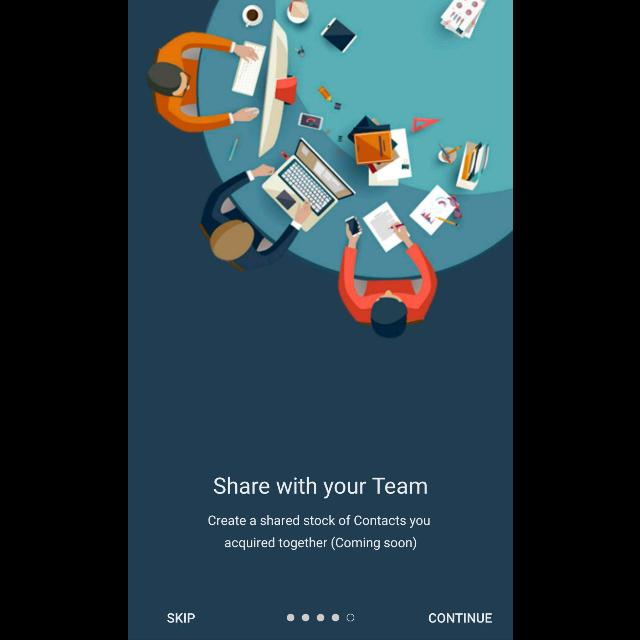image: (144, 1, 512, 339)
pageindicator: (286, 614, 354, 622)
text: (207, 515, 429, 551), (212, 477, 426, 499), (428, 613, 490, 623), (166, 613, 194, 623)
